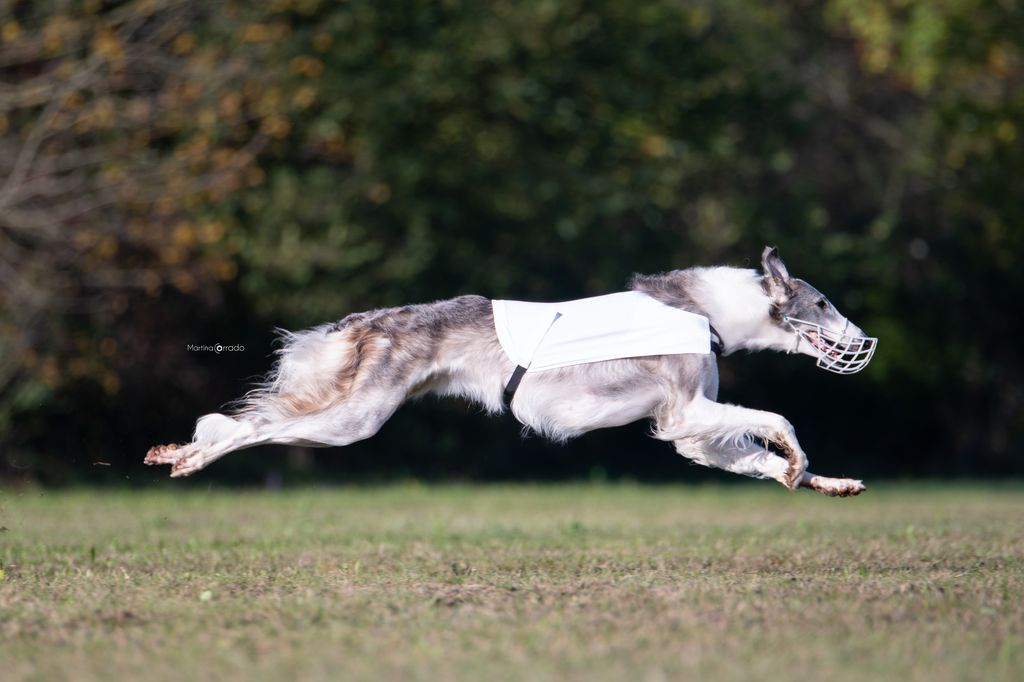borzoi: (115, 245, 926, 494)
